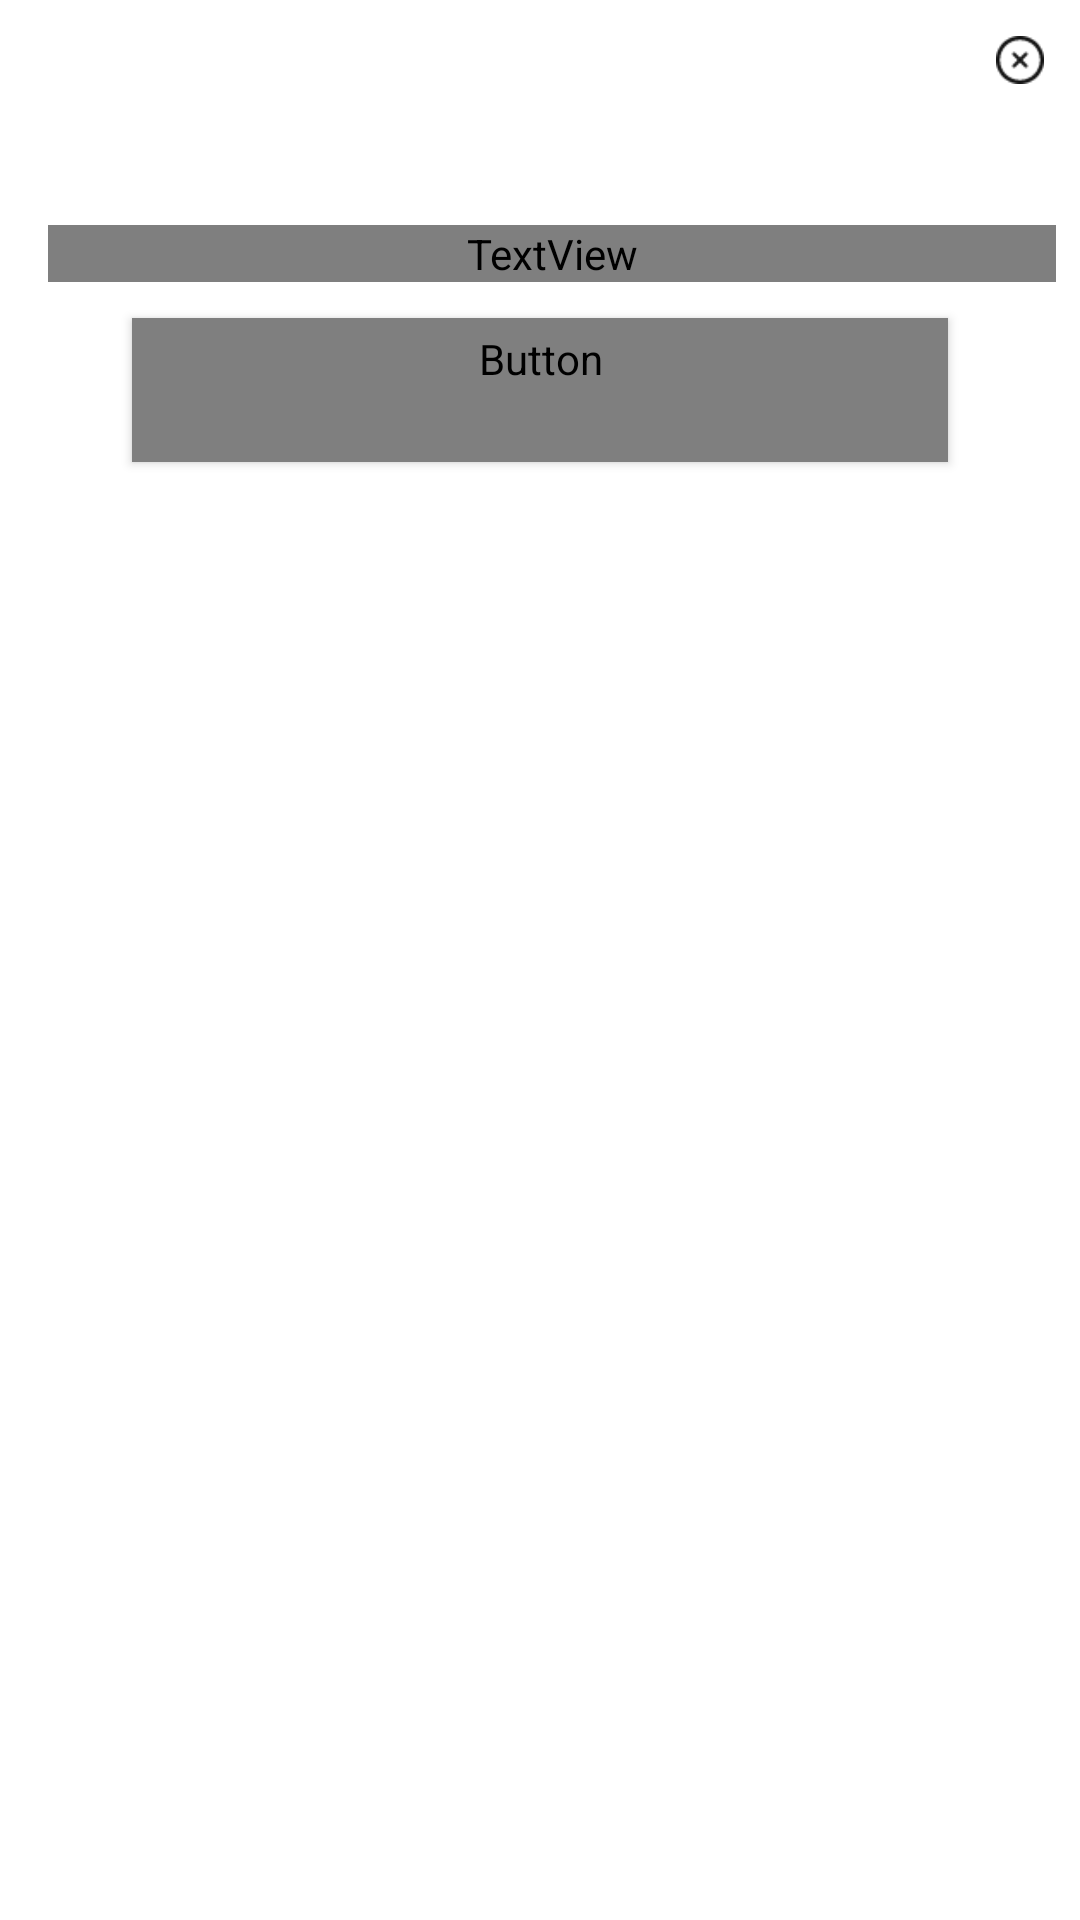

Named icons in this screenshot (1080x1920) and their centers, (x=x, y=y):
close: (x=1020, y=60)
